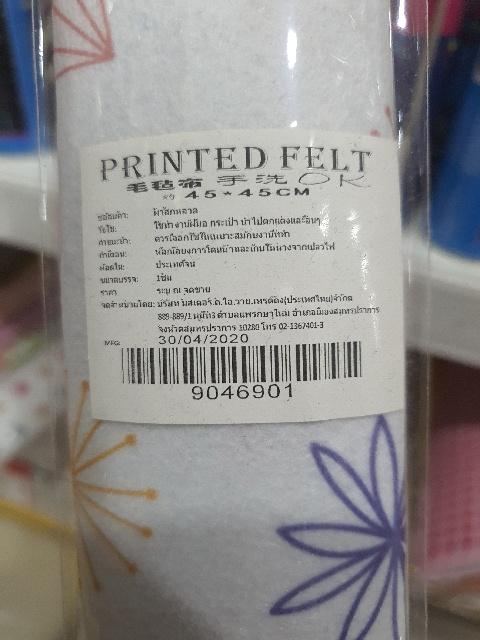Barcode: (104, 342, 374, 404)
